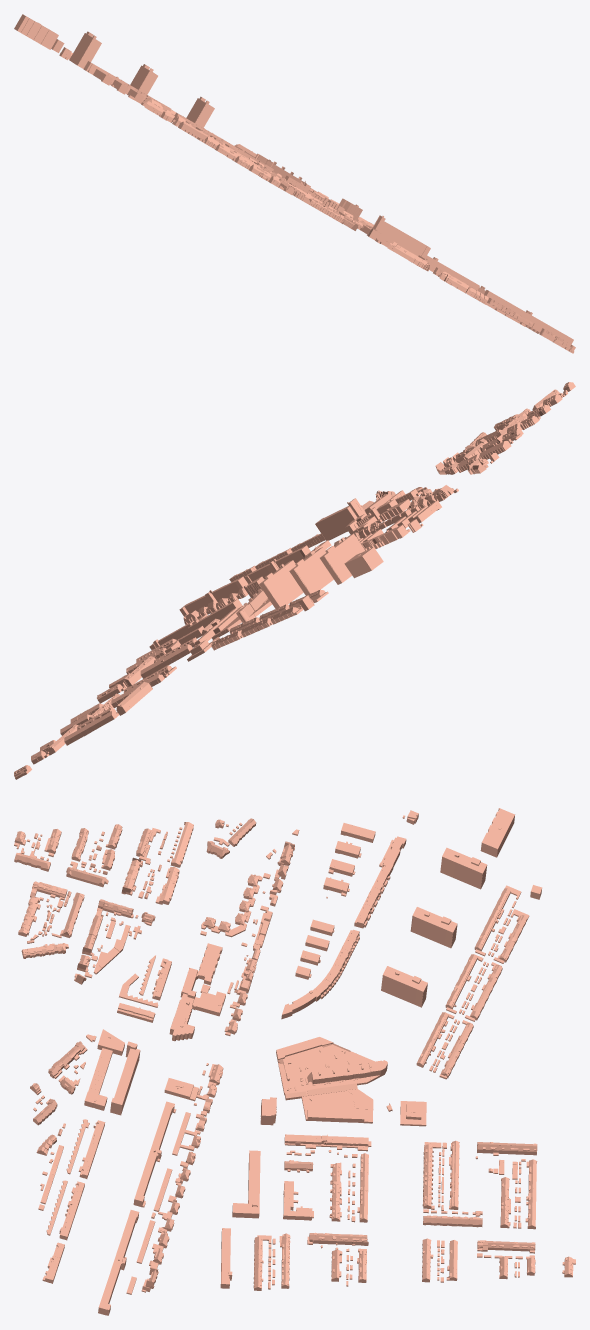
3 views of the same model, one above another, from view 1: azimuth 30°, elevation 25°; view 2: azimuth 150°, elevation 25°; view 3: azimuth 270°, elevation 25° (orthographic). The views are drawn at different scales.
Bounding box in the file's own units: 544 × 399 × 645.
